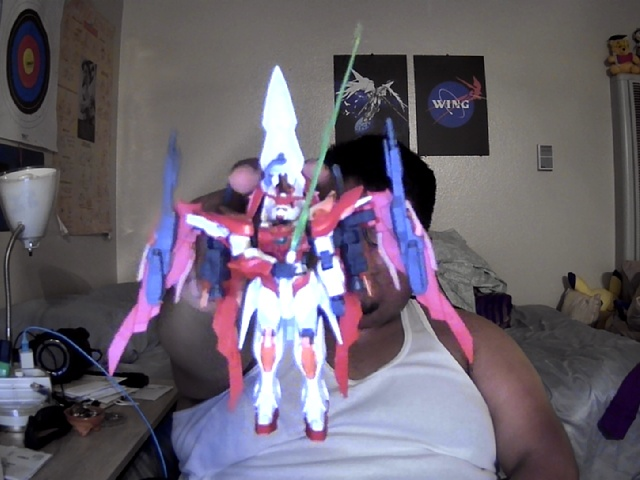Honoo: (106, 64, 476, 443)
